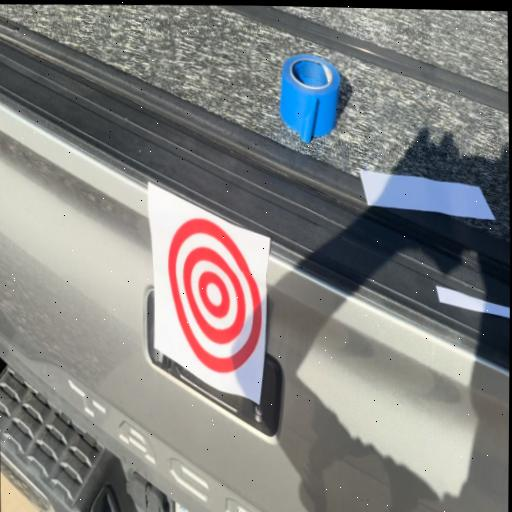bullseye: (161, 195, 271, 404)
